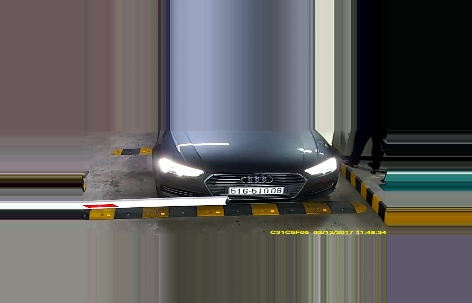plate: (228, 184, 283, 196)
